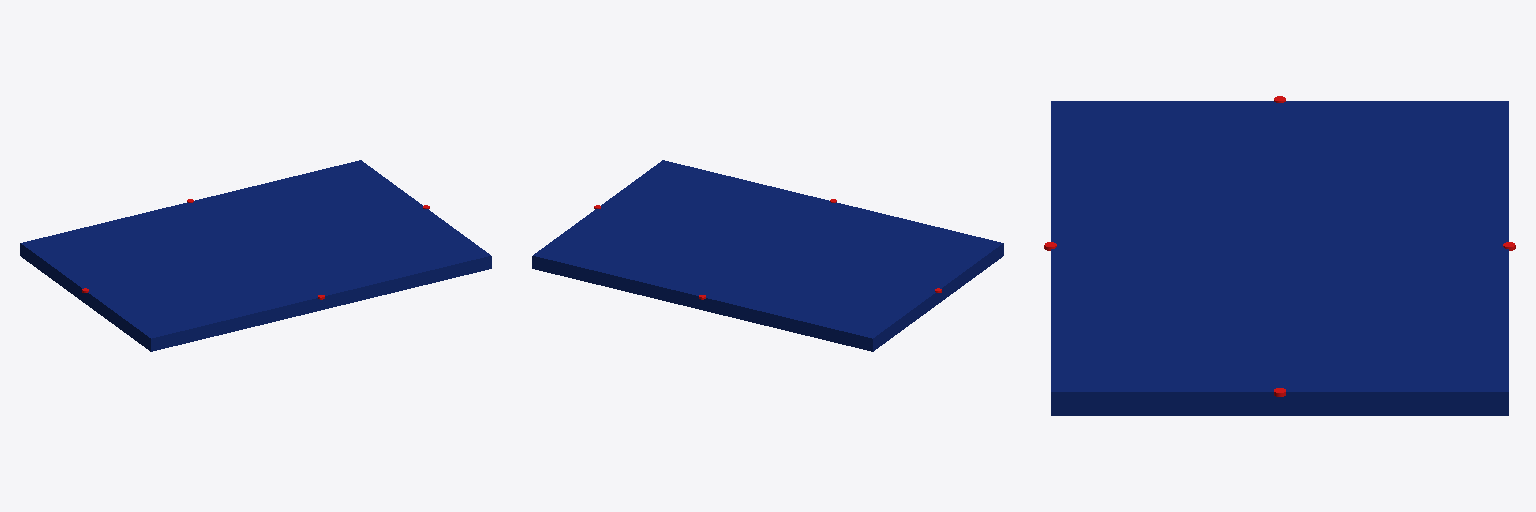
The robot description file, URDF, robot "solar_tracker":
<?xml version="1.0"?>
<robot name="solar_tracker">
  <material name="alu"><color rgba="0.75 0.77 0.8 1"/></material>
  <material name="panel"><color rgba="0.1 0.2 0.5 0.8"/></material>
  <material name="ldr"><color rgba="0.9 0.1 0.1 1"/></material>
  <link name="world"/>
  <joint name="world_joint" type="fixed"><parent link="world"/><child link="base_link"/></joint>
  <link name="base_link"><visual><geometry><mesh filename="file:///home/riyadh/mk/solar_tracker/meshes/base.stl"/></geometry><material name="alu"/></visual>
    <inertial><origin xyz="-0.00067 0.00000 0.06873"/><mass value="2.1340"/><inertia ixx="0.018119" iyy="0.013247" izz="0.019597" ixy="6.4596e-19" ixz="-8.3662e-05" iyz="3.8538e-19"/></inertial></link>
  <link name="azimuth_link"><visual><geometry><mesh filename="file:///home/riyadh/mk/solar_tracker/meshes/azimuth_link.stl"/></geometry><material name="alu"/></visual>
    <inertial><origin xyz="0.02951 0.00163 0.03639"/><mass value="1.4390"/><inertia ixx="0.0007869" iyy="0.0015058" izz="0.0014388" ixy="-4.2655e-05" ixz="-0.00012549" iyz="-9.0677e-06"/></inertial></link>
  <link name="elevation_link"><visual><geometry><mesh filename="file:///home/riyadh/mk/solar_tracker/meshes/elevation_link.stl"/></geometry><material name="alu"/></visual>
    <inertial><origin xyz="-0.01495 0.00832 0.02563"/><mass value="0.5050"/><inertia ixx="0.0038818" iyy="0.0071636" izz="0.010893" ixy="-0.00016635" ixz="-0.00014715" iyz="-9.0017e-05"/></inertial></link>
  <link name="panel"><visual><origin xyz="-0.0006 0.0092 0.0547"/><geometry><box size="0.67 0.445 0.025"/></geometry><material name="panel"/></visual>
    <inertial><origin xyz="-0.00057 0.00918 0.05475"/><mass value="2.5500"/><inertia ixx="0.042213" iyy="0.095524" izz="0.13747" ixy="0" ixz="0" iyz="0"/></inertial></link>
  <joint name="azimuth_joint" type="continuous"><parent link="base_link"/><child link="azimuth_link"/>
    <origin xyz="0.0 0.0 0.165"/><axis xyz="0 0 -1"/><dynamics damping="0.2" friction="0.05"/></joint>
  <joint name="elevation_joint" type="revolute"><parent link="azimuth_link"/><child link="elevation_link"/>
    <origin xyz="0.0 0.0 0.0395"/><axis xyz="1 0 0"/><dynamics damping="0.2" friction="0.05"/>
    <limit lower="-0.7854" upper="0.7854" effort="1.5" velocity="1"/></joint>
  <joint name="panel_joint" type="fixed"><parent link="elevation_link"/><child link="panel"/></joint>
  <link name="ldr_x_pos"><visual><geometry><cylinder radius="0.006" length="0.004"/></geometry><material name="ldr"/></visual></link>
  <joint name="ldr_x_pos_joint" type="fixed"><parent link="elevation_link"/><child link="ldr_x_pos"/><origin xyz="0.3344 0.0092 0.0672"/></joint>
  <link name="ldr_x_neg"><visual><geometry><cylinder radius="0.006" length="0.004"/></geometry><material name="ldr"/></visual></link>
  <joint name="ldr_x_neg_joint" type="fixed"><parent link="elevation_link"/><child link="ldr_x_neg"/><origin xyz="-0.3356 0.0092 0.0672"/></joint>
  <link name="ldr_y_pos"><visual><geometry><cylinder radius="0.006" length="0.004"/></geometry><material name="ldr"/></visual></link>
  <joint name="ldr_y_pos_joint" type="fixed"><parent link="elevation_link"/><child link="ldr_y_pos"/><origin xyz="-0.0006 0.2317 0.0672"/></joint>
  <link name="ldr_y_neg"><visual><geometry><cylinder radius="0.006" length="0.004"/></geometry><material name="ldr"/></visual></link>
  <joint name="ldr_y_neg_joint" type="fixed"><parent link="elevation_link"/><child link="ldr_y_neg"/><origin xyz="-0.0006 -0.2133 0.0672"/></joint>
  <gazebo>
    <plugin filename="gz-sim-joint-state-publisher-system" name="gz::sim::systems::JointStatePublisher"/>
    <plugin filename="gz-sim-apply-joint-force-system" name="gz::sim::systems::ApplyJointForce">
      <joint_name>azimuth_joint</joint_name>
    </plugin>
    <plugin filename="gz-sim-apply-joint-force-system" name="gz::sim::systems::ApplyJointForce">
      <joint_name>elevation_joint</joint_name>
    </plugin>
  </gazebo>
</robot>

--- Render facts (derived) ---
The picture shows the robot from 3 angles, left to right: view 1: azimuth 30°, elevation 25°; view 2: azimuth 150°, elevation 25°; view 3: azimuth 270°, elevation 25°; orthographic projection.
Robot: solar_tracker — 9 links, 8 joints (1 revolute, 1 continuous, 6 fixed); root link world; default pose: all joints at 0.
Visible links, largest first — view 1: panel; view 2: panel; view 3: panel.
Link boxes in pixels (x1,y1,x2,y2): panel: [20, 160, 491, 351]; panel: [532, 160, 1003, 351]; panel: [1051, 101, 1508, 415].
Size in the robot's own frame: 0.682 by 0.457 by 0.027 metres.
Geometry: only primitive shapes (box / cylinder / sphere) drawn; not drawn: 3 mesh visuals (reference in a form the renderer does not follow).
